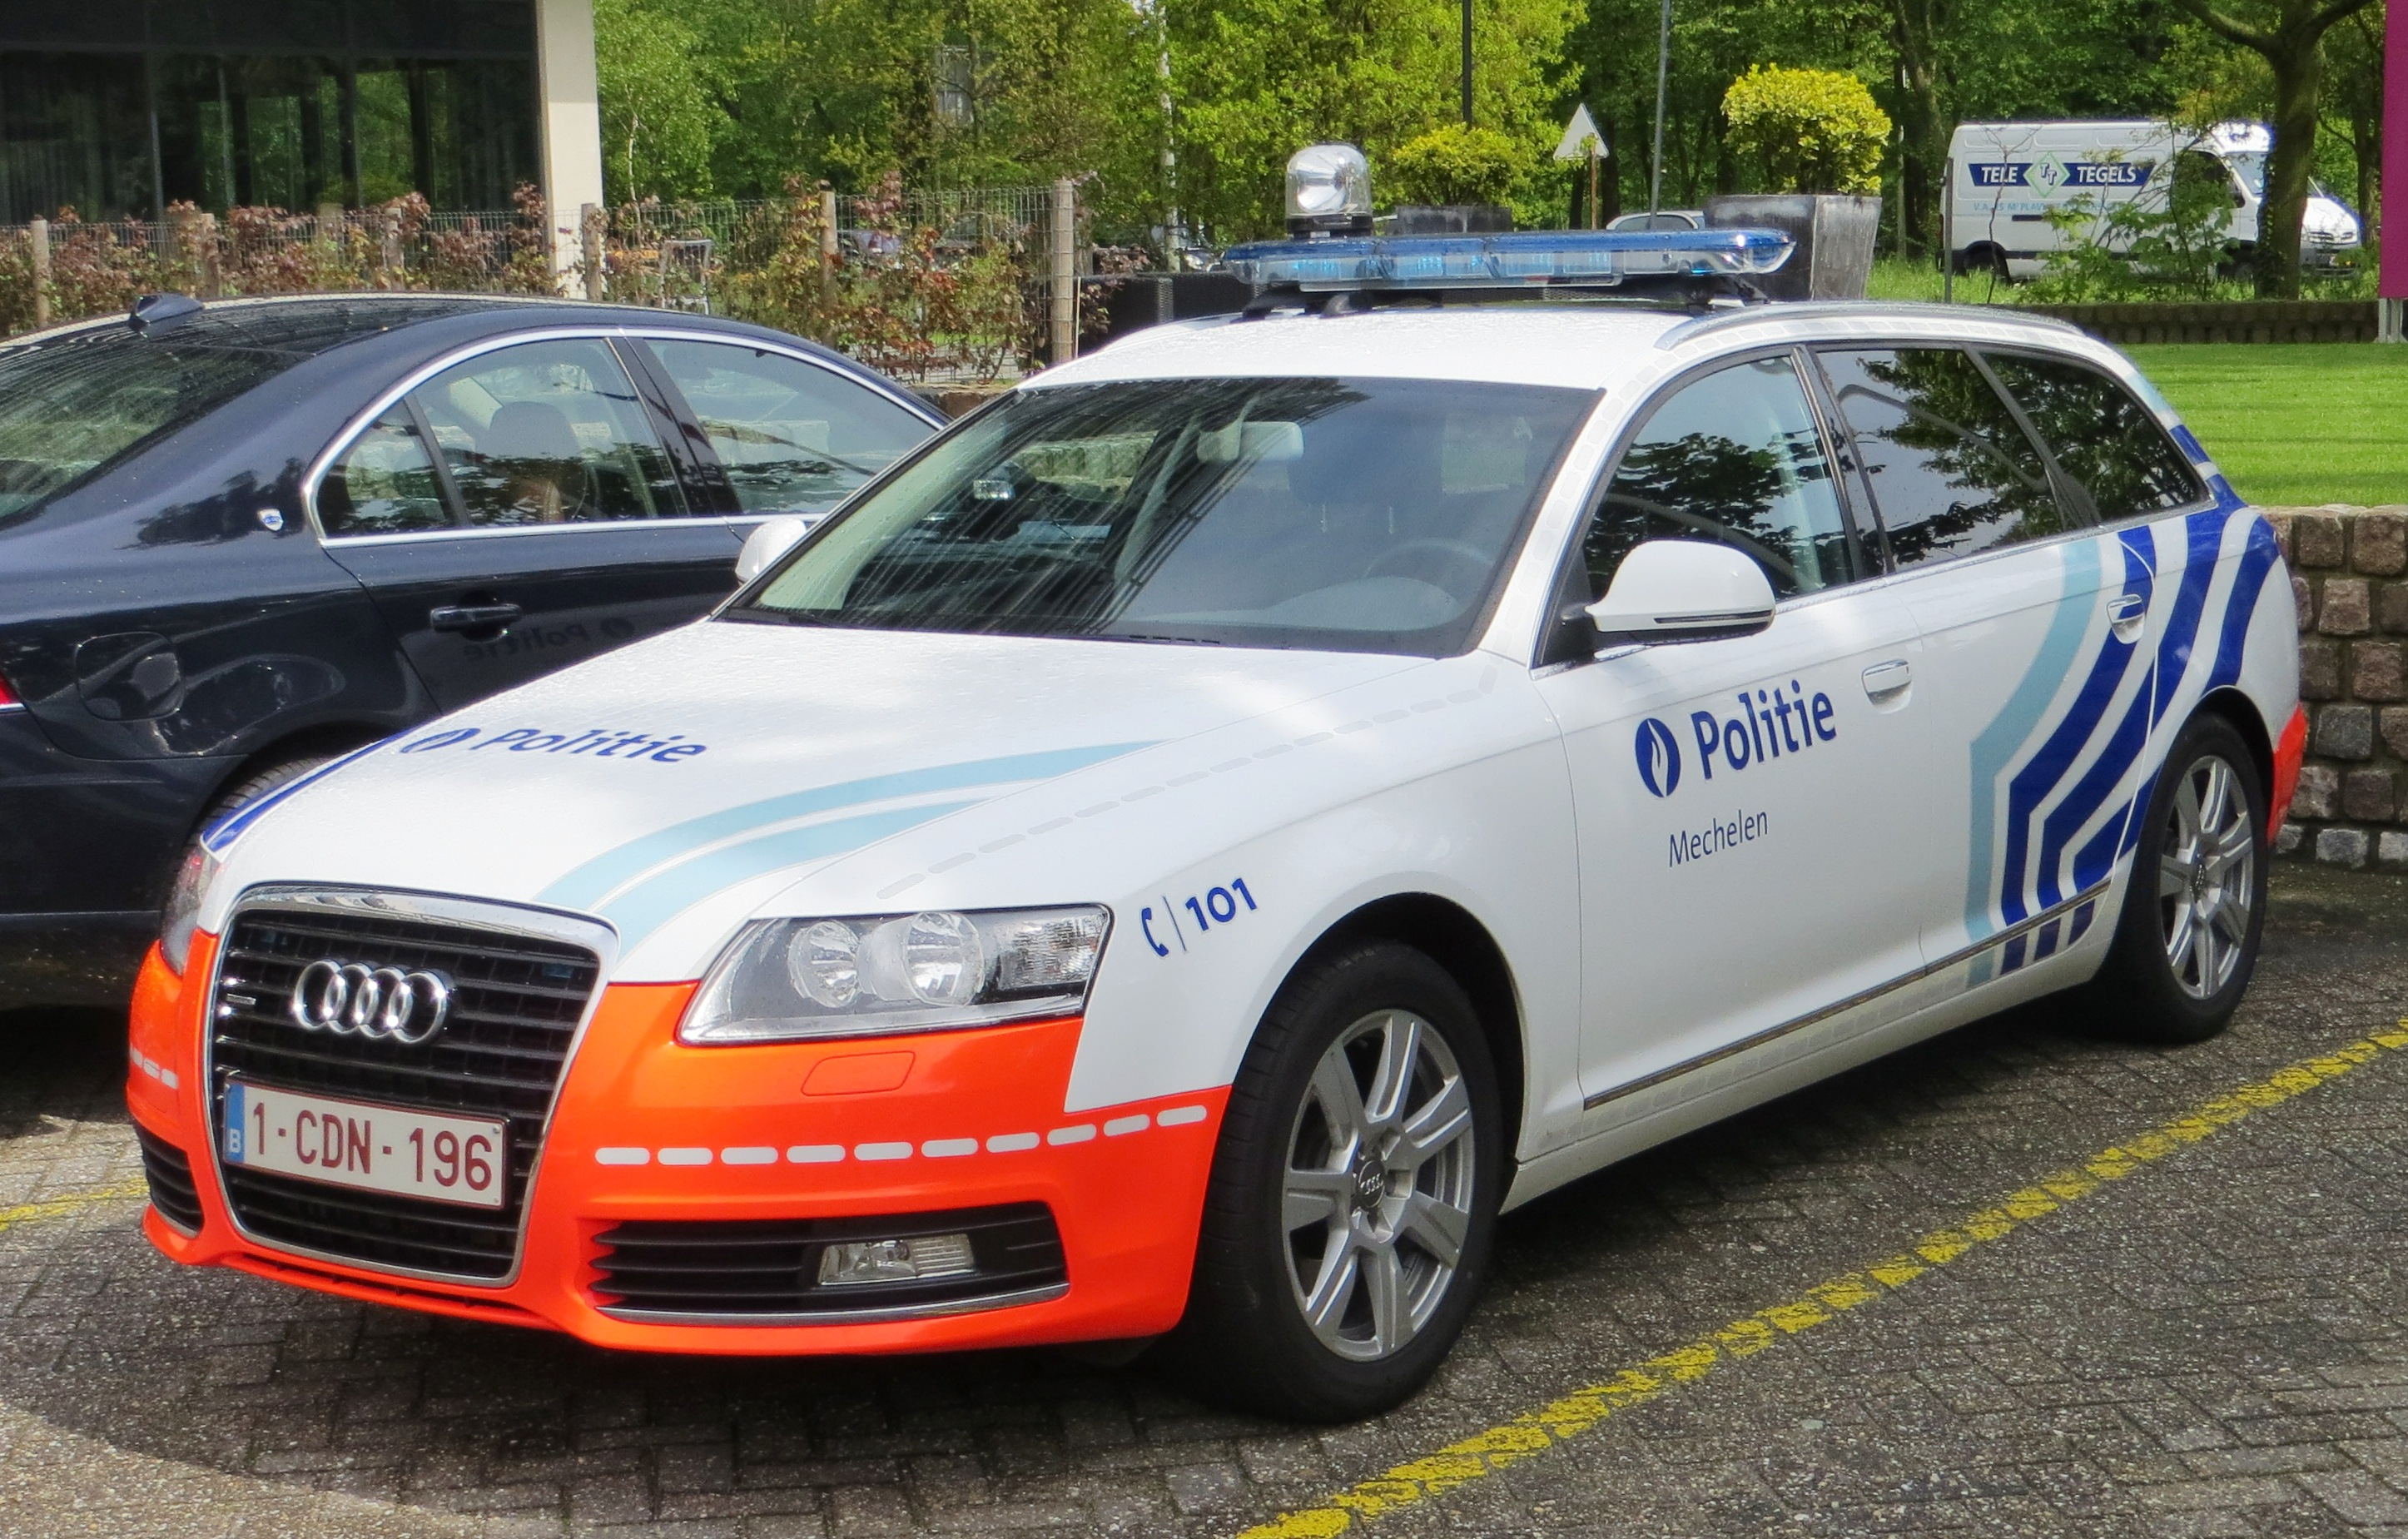licenseplate: (246, 1084, 505, 1206)
